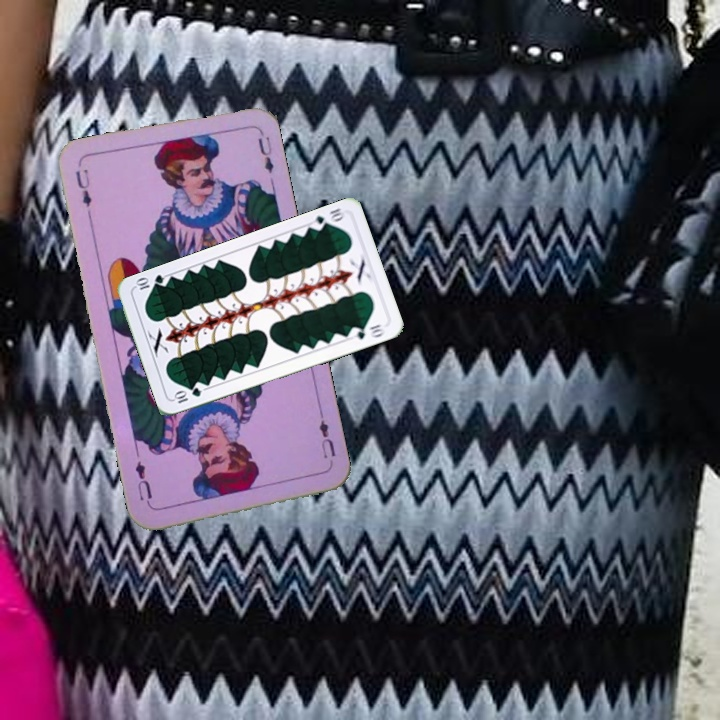EU: (71, 165, 95, 222), (314, 409, 338, 462)
G10: (307, 204, 347, 233), (170, 383, 204, 406)
